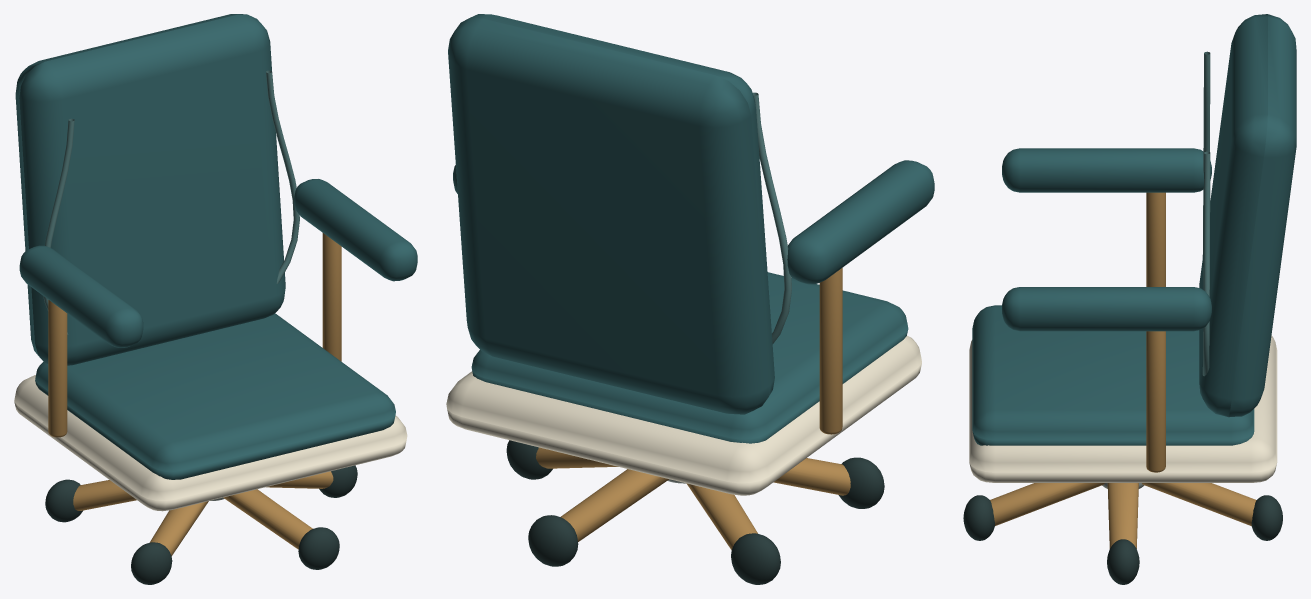
Rendered from consult-chair.glb.
3 renders of one model, left to right at view 1: azimuth 30°, elevation 25°; view 2: azimuth 150°, elevation 25°; view 3: azimuth 270°, elevation 25°, orthographic. The views are drawn at different scales.
Visible parts, largest first — view 1: consult-chair; view 2: consult-chair; view 3: consult-chair.
Part boxes in pixels (bbox=[...]): consult-chair: bbox=[14, 14, 417, 584]; consult-chair: bbox=[446, 14, 934, 584]; consult-chair: bbox=[963, 14, 1296, 584].
Bounding box in the file's own units: 0.565 × 0.7632 × 0.5079.
